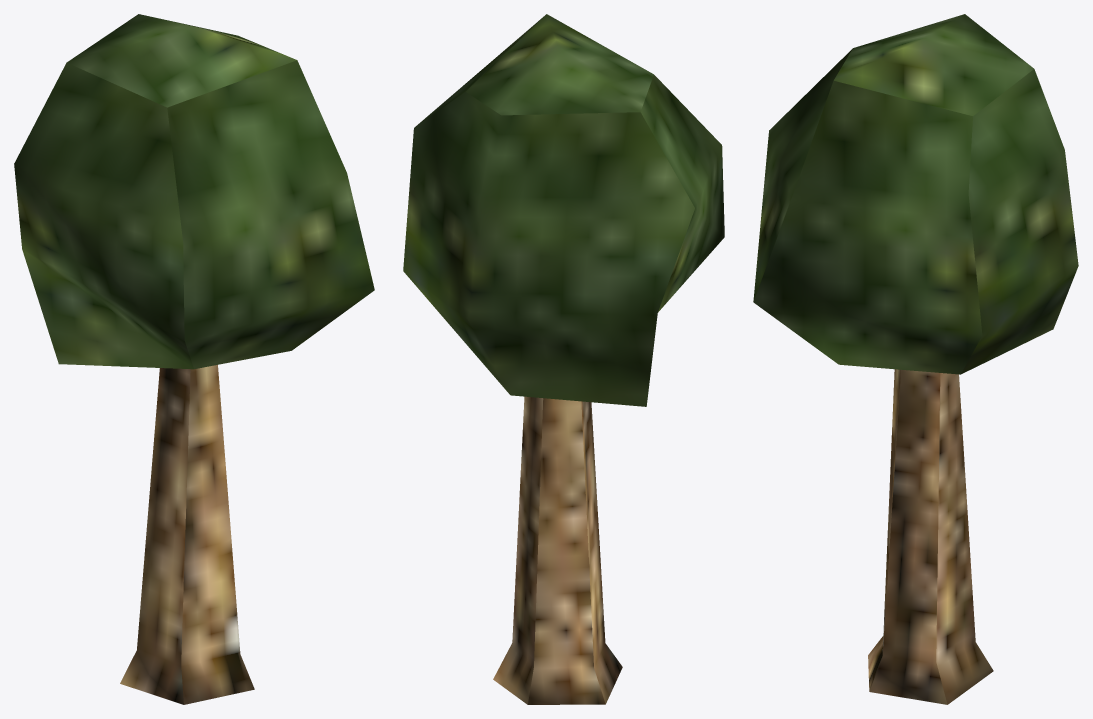
Rendered from Tree.fbx.
The picture shows the model from 3 angles, left to right: view 1: azimuth 30°, elevation 25°; view 2: azimuth 150°, elevation 25°; view 3: azimuth 270°, elevation 25°; orthographic projection. The views are drawn at different scales.
Parts seen in each view (by area): view 1: Tree; view 2: Tree; view 3: Tree.
Boxes of the visible parts, x1,y1,x2,y2 form: Tree: [14, 14, 374, 704]; Tree: [403, 14, 724, 704]; Tree: [753, 14, 1078, 704].
Size of the model in its own units: 181 by 392 by 181.
Materials: 2 (2 with a texture image).
